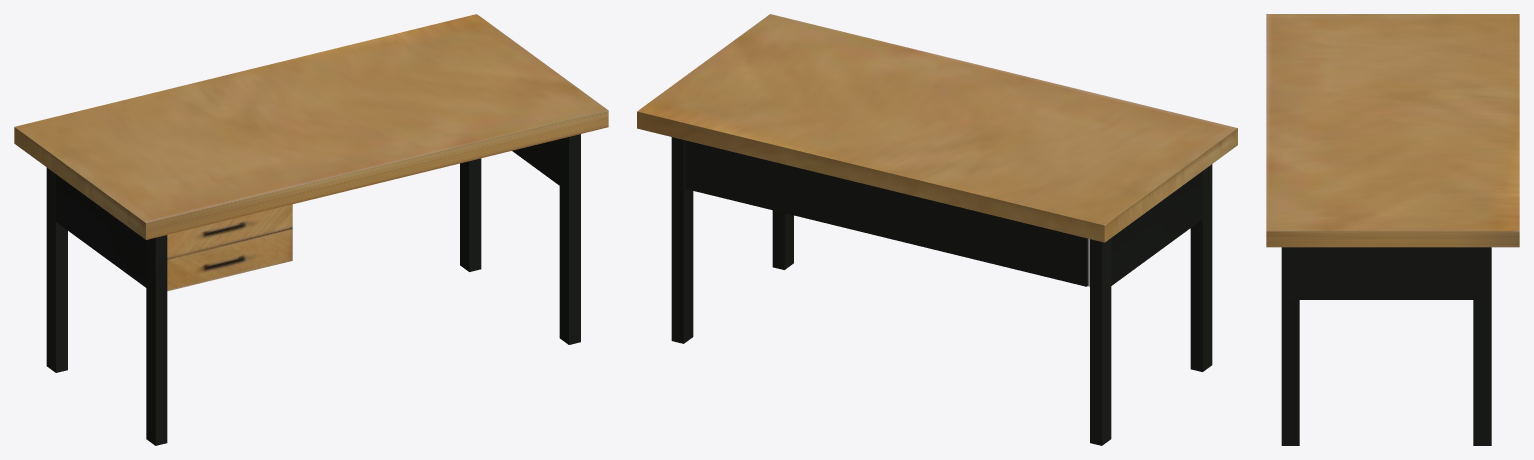
File: desk.fbx
3 views of the same model, side by side, from view 1: azimuth 30°, elevation 25°; view 2: azimuth 150°, elevation 25°; view 3: azimuth 270°, elevation 25° (orthographic). The views are drawn at different scales.
Visible parts, largest first — view 1: Cube, Cube.001, Cube.006, Cube.004, Cube.007, Cube.005, Cube.002; view 2: Cube, Cube.003, Cube.001, Cube.007, Cube.005, Cube.006, Cube.004; view 3: Cube, Cube.002, Cube.005, Cube.004.
Boxes of the visible parts, left/top/right/bottom form: Cube: left=14, top=14, right=608, bottom=239; Cube.001: left=56, top=174, right=292, bottom=291; Cube.006: left=146, top=235, right=167, bottom=445; Cube.004: left=559, top=134, right=580, bottom=344; Cube.007: left=46, top=167, right=67, bottom=372; Cube.005: left=460, top=158, right=481, bottom=271; Cube.002: left=512, top=139, right=559, bottom=185; Cube: left=637, top=14, right=1237, bottom=242; Cube.003: left=685, top=140, right=1088, bottom=286; Cube.001: left=1088, top=171, right=1202, bottom=286; Cube.007: left=1090, top=238, right=1111, bottom=445; Cube.005: left=671, top=137, right=693, bottom=343; Cube.006: left=1190, top=164, right=1212, bottom=371; Cube.004: left=772, top=210, right=793, bottom=269; Cube: left=1266, top=14, right=1519, bottom=247; Cube.002: left=1283, top=247, right=1485, bottom=299; Cube.005: left=1473, top=247, right=1491, bottom=445; Cube.004: left=1281, top=247, right=1299, bottom=445.
Bounding box in the file's own units: 524 × 252 × 259.
